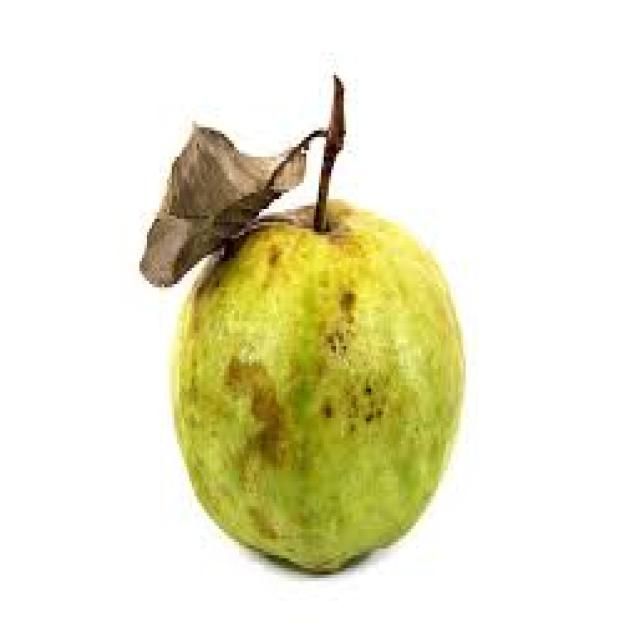Guava: (168, 222, 461, 566)
